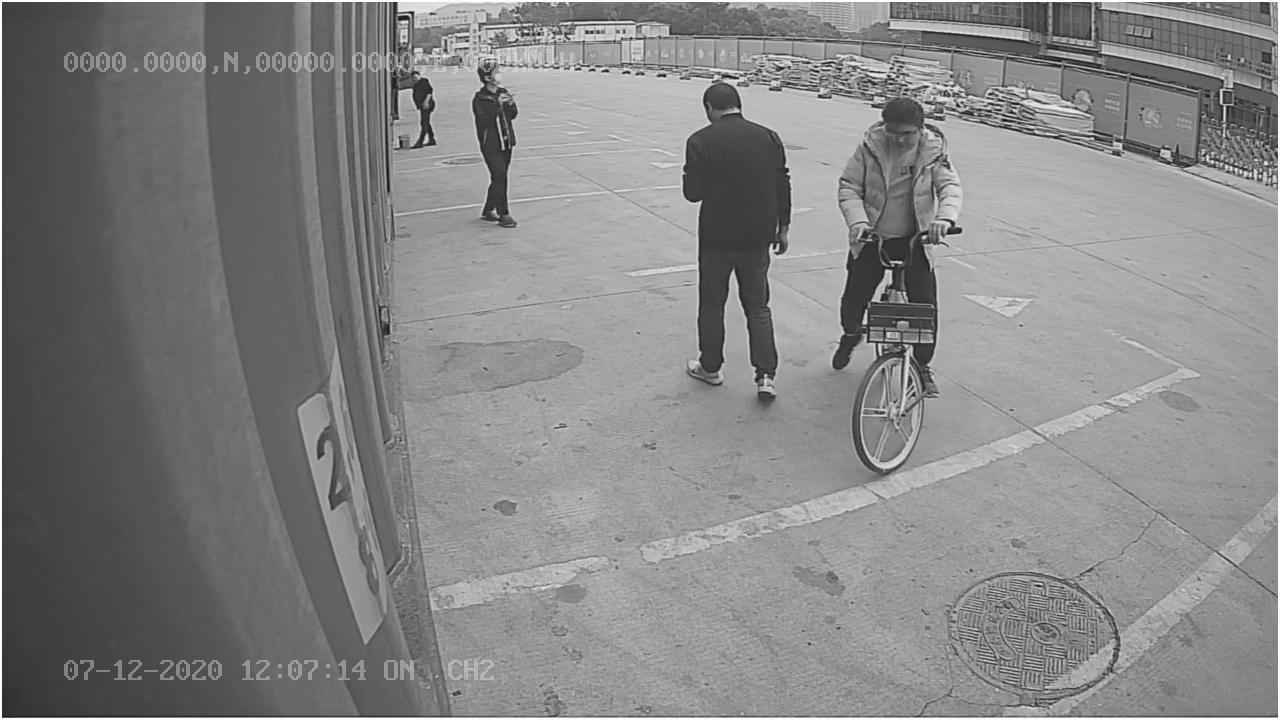person: (675, 75, 793, 403)
